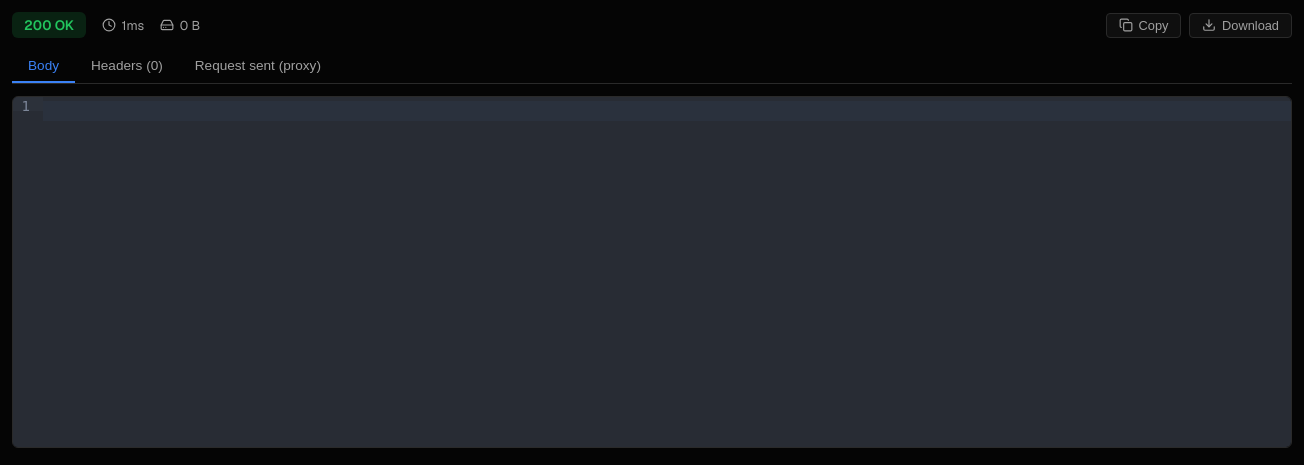
ResponseViewer safety › masks sensitive sent headers until revealed
This screenshot has width=1304, height=465.
Click the button "Request sent (proxy)" at (258, 66), box top-left (179, 50), bottom-right (337, 83)
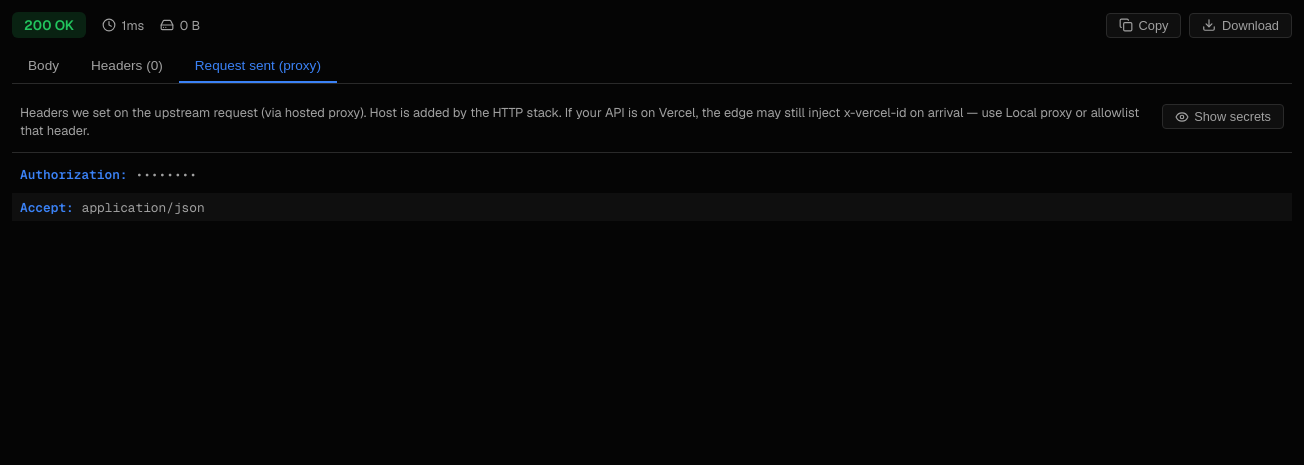
expect the text "Bearer secret-123" is not shown: met
expect the text "application/json" is shown: met, box top-left (82, 199), bottom-right (205, 216)
Click the button with aria-label "Show secret header values" at (1223, 116), box top-left (1162, 104), bottom-right (1284, 129)
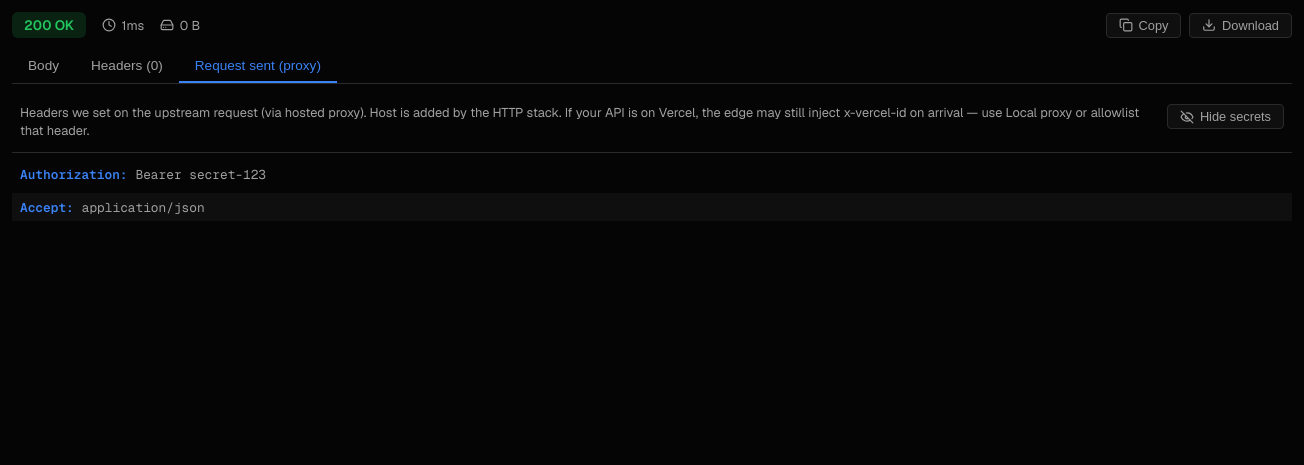
expect the text "Bearer secret-123" is shown: met, box top-left (136, 166), bottom-right (266, 183)
